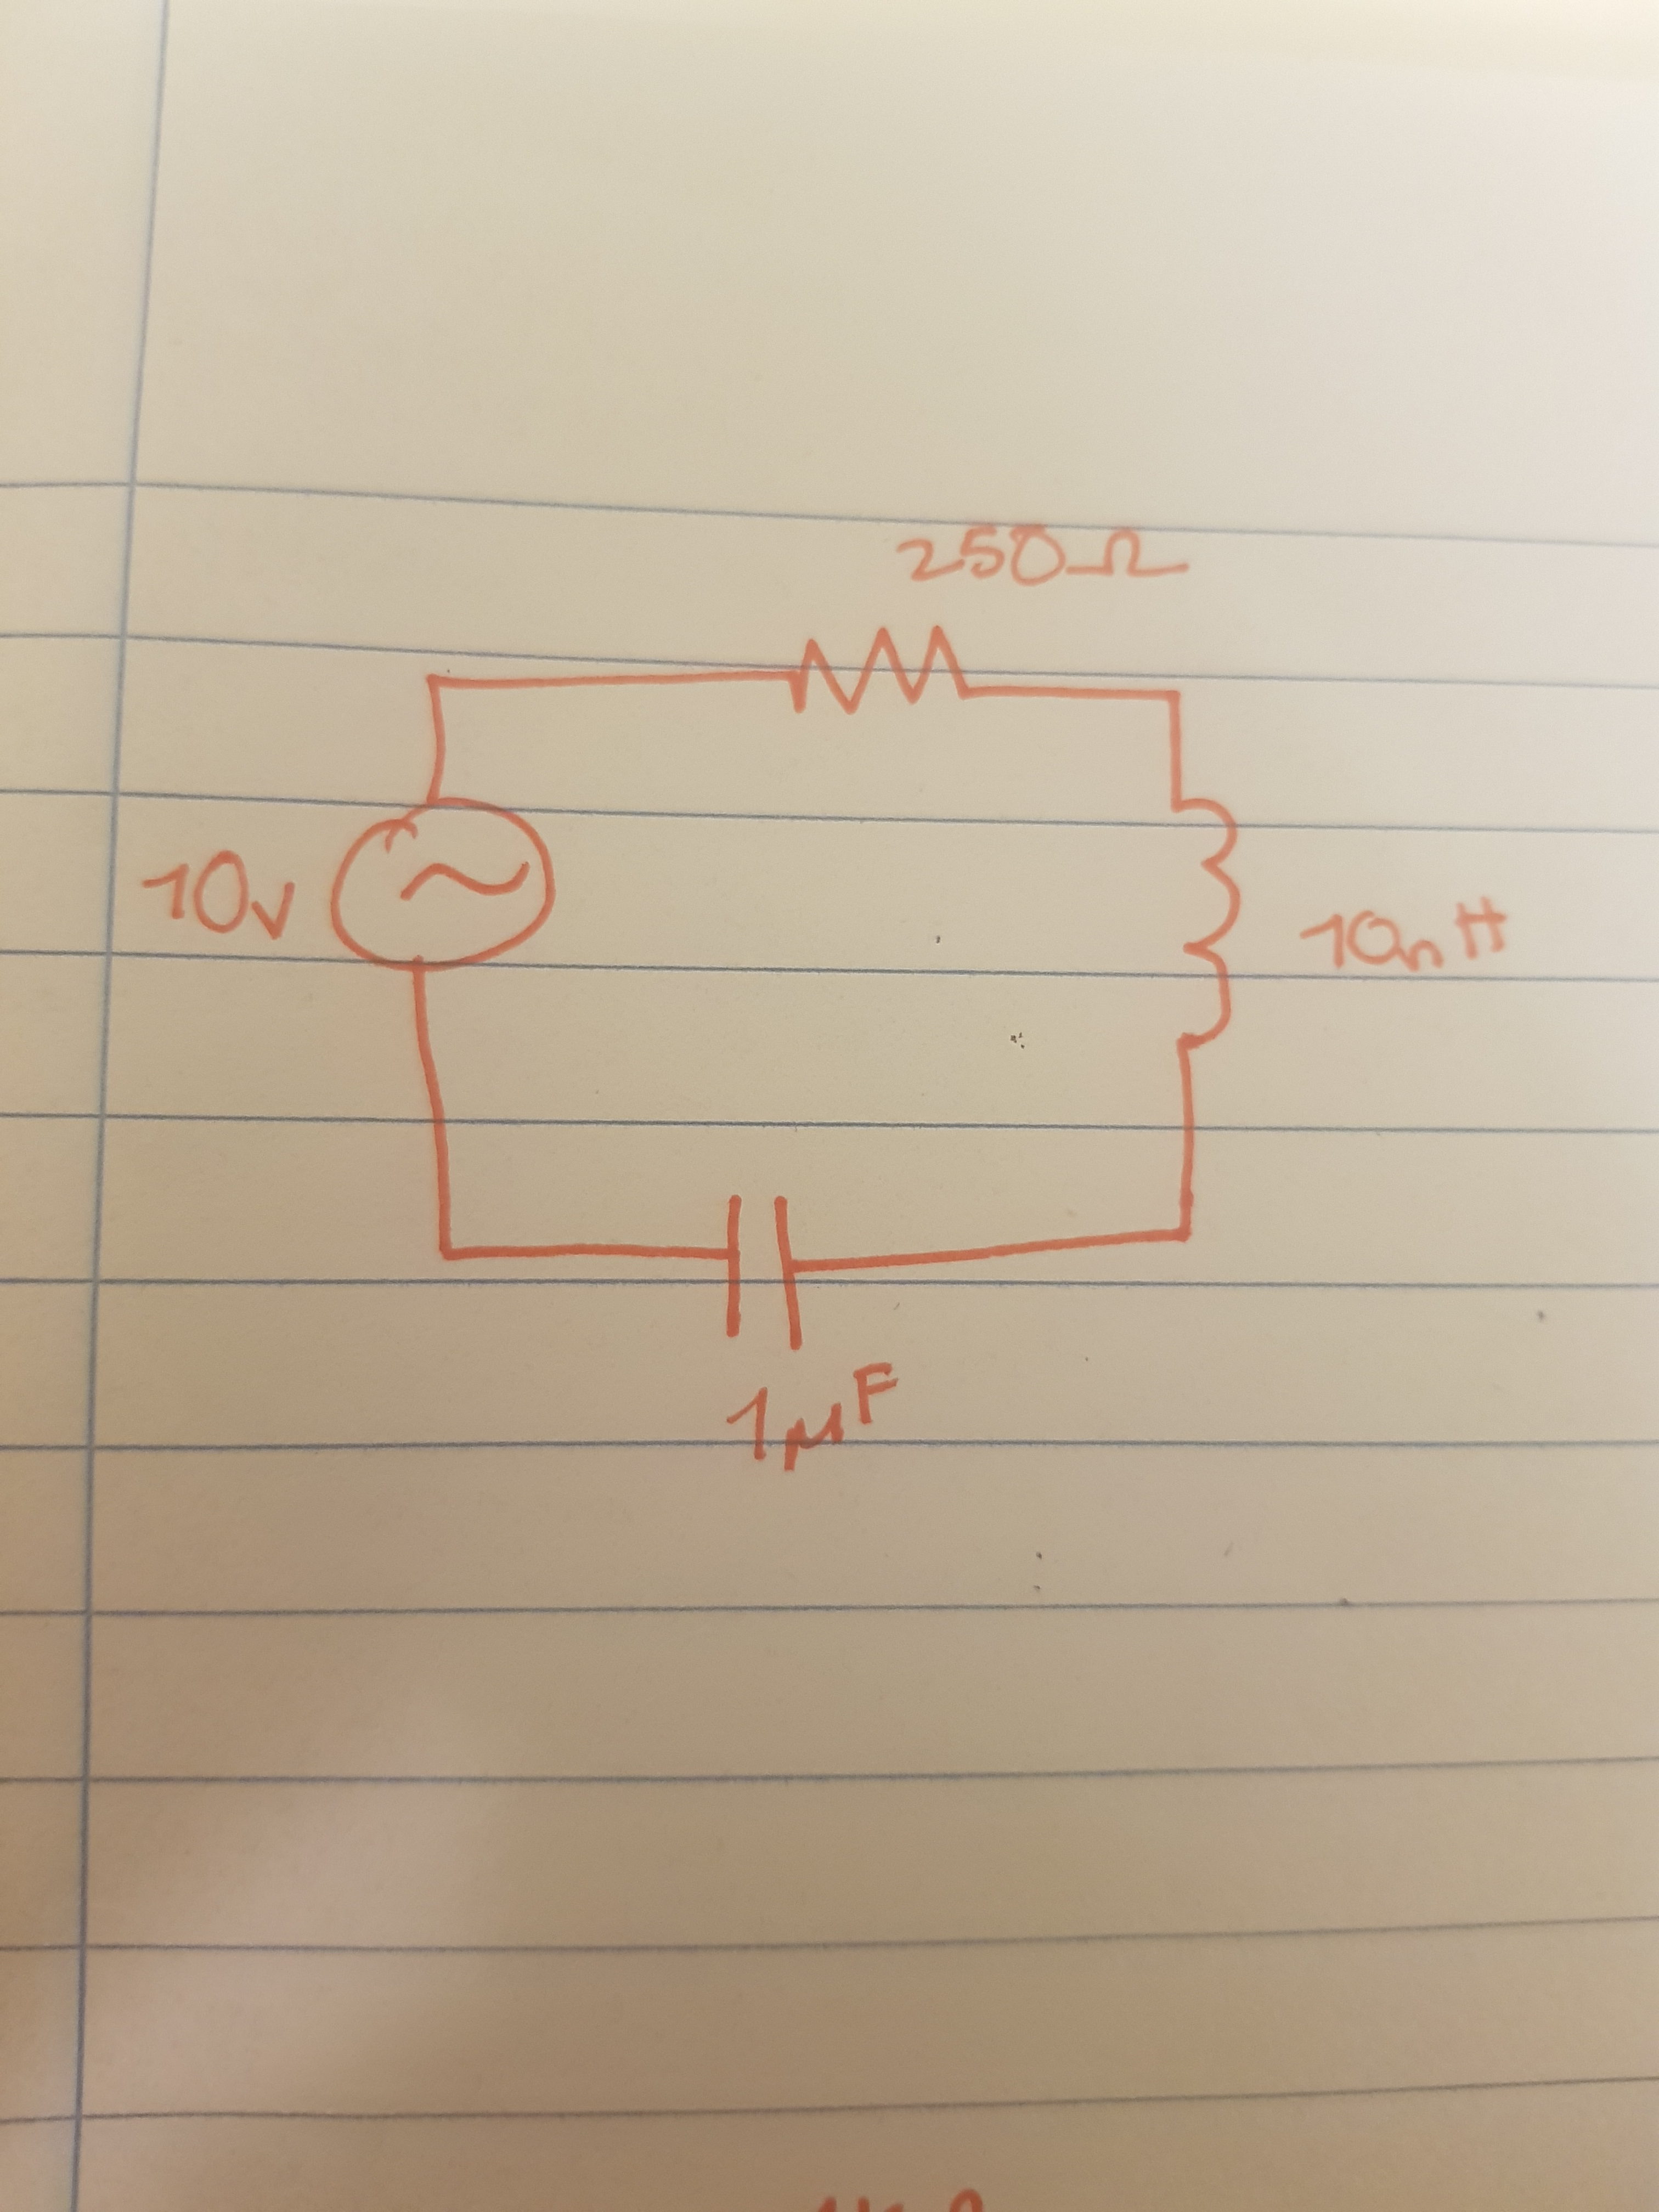capacitor.unpolarized: (709, 1165, 819, 1378)
inductor: (1145, 796, 1258, 1059)
junction: (1148, 1204, 1227, 1271), (408, 1224, 476, 1296), (404, 644, 472, 712), (1141, 655, 1206, 723)
resistor: (772, 620, 1000, 723)
text: (884, 507, 1190, 606), (1307, 888, 1527, 998), (737, 1348, 904, 1491), (124, 836, 312, 956)
voltage.dc: (322, 796, 561, 984)
